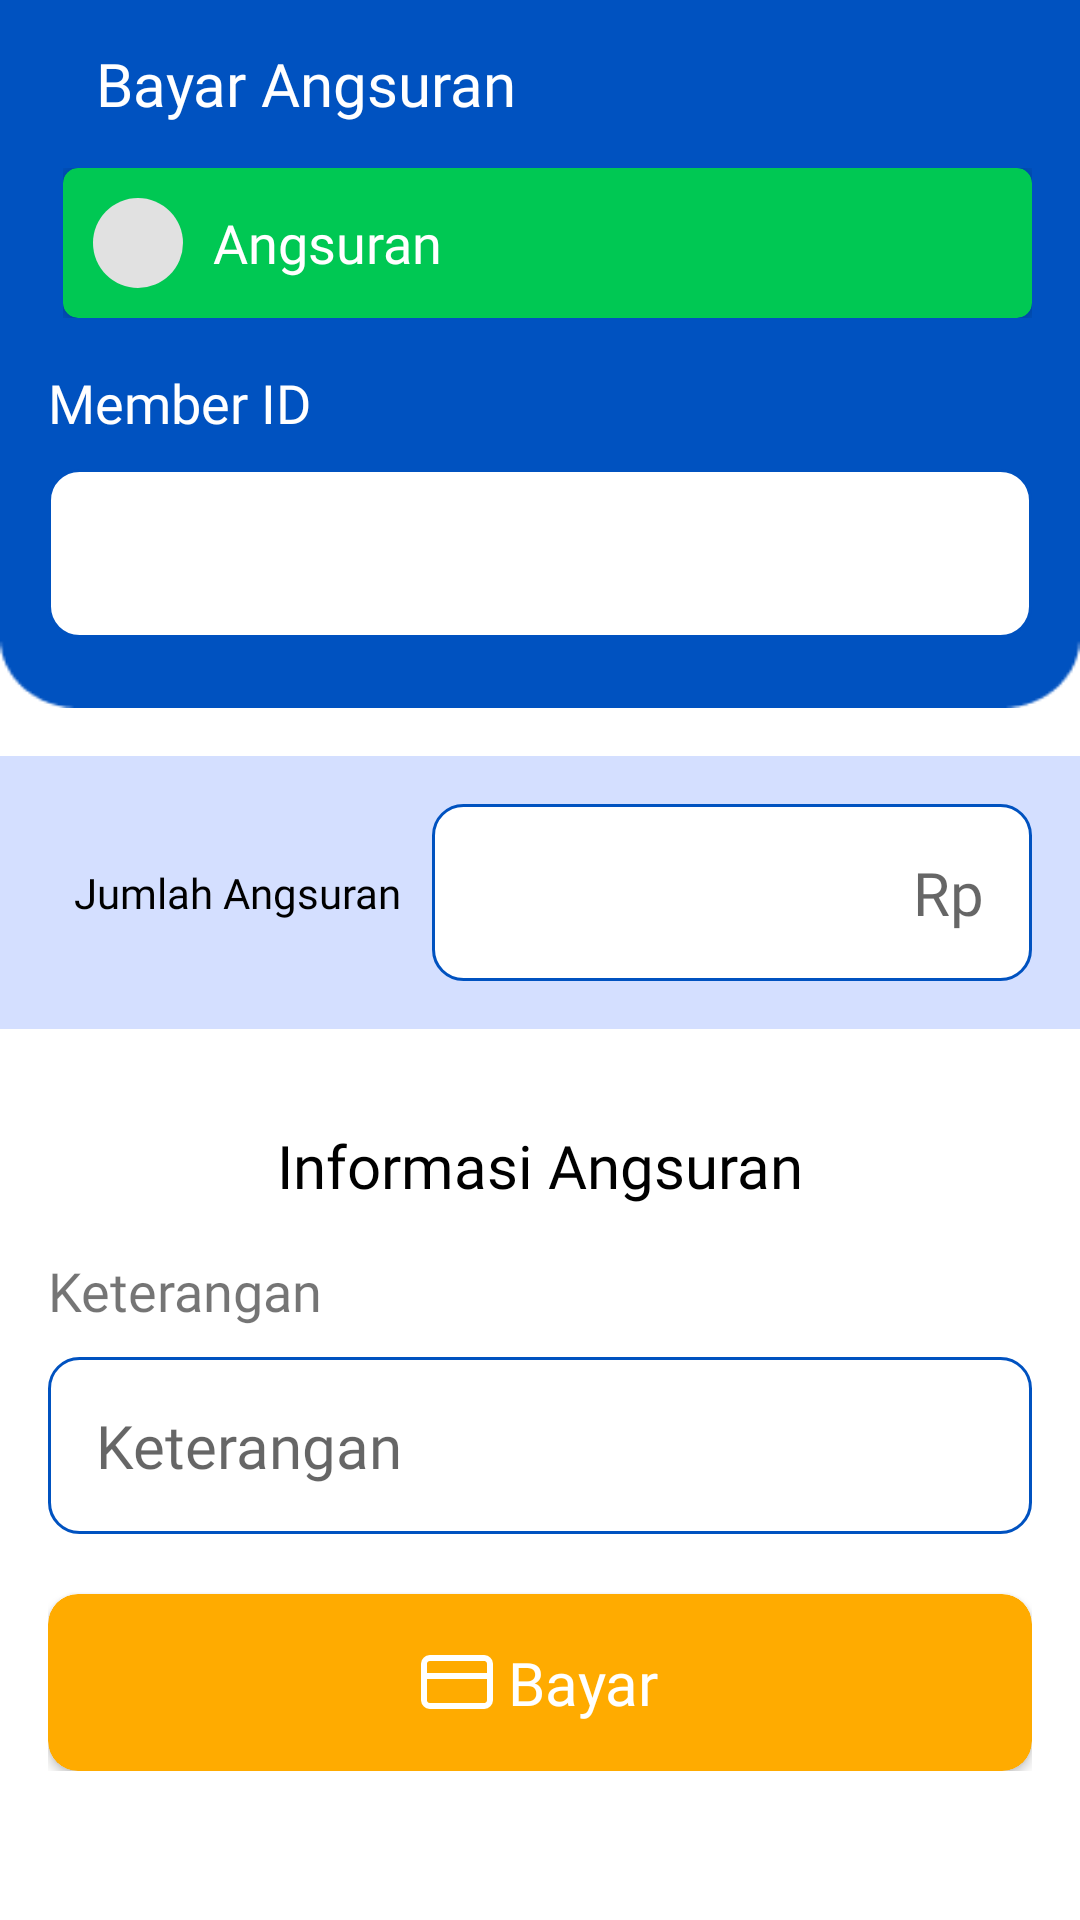

Screen size 1080w x 1920h. Icon name, then its center in pixels as (x,y):
credit card: (457,1682)
